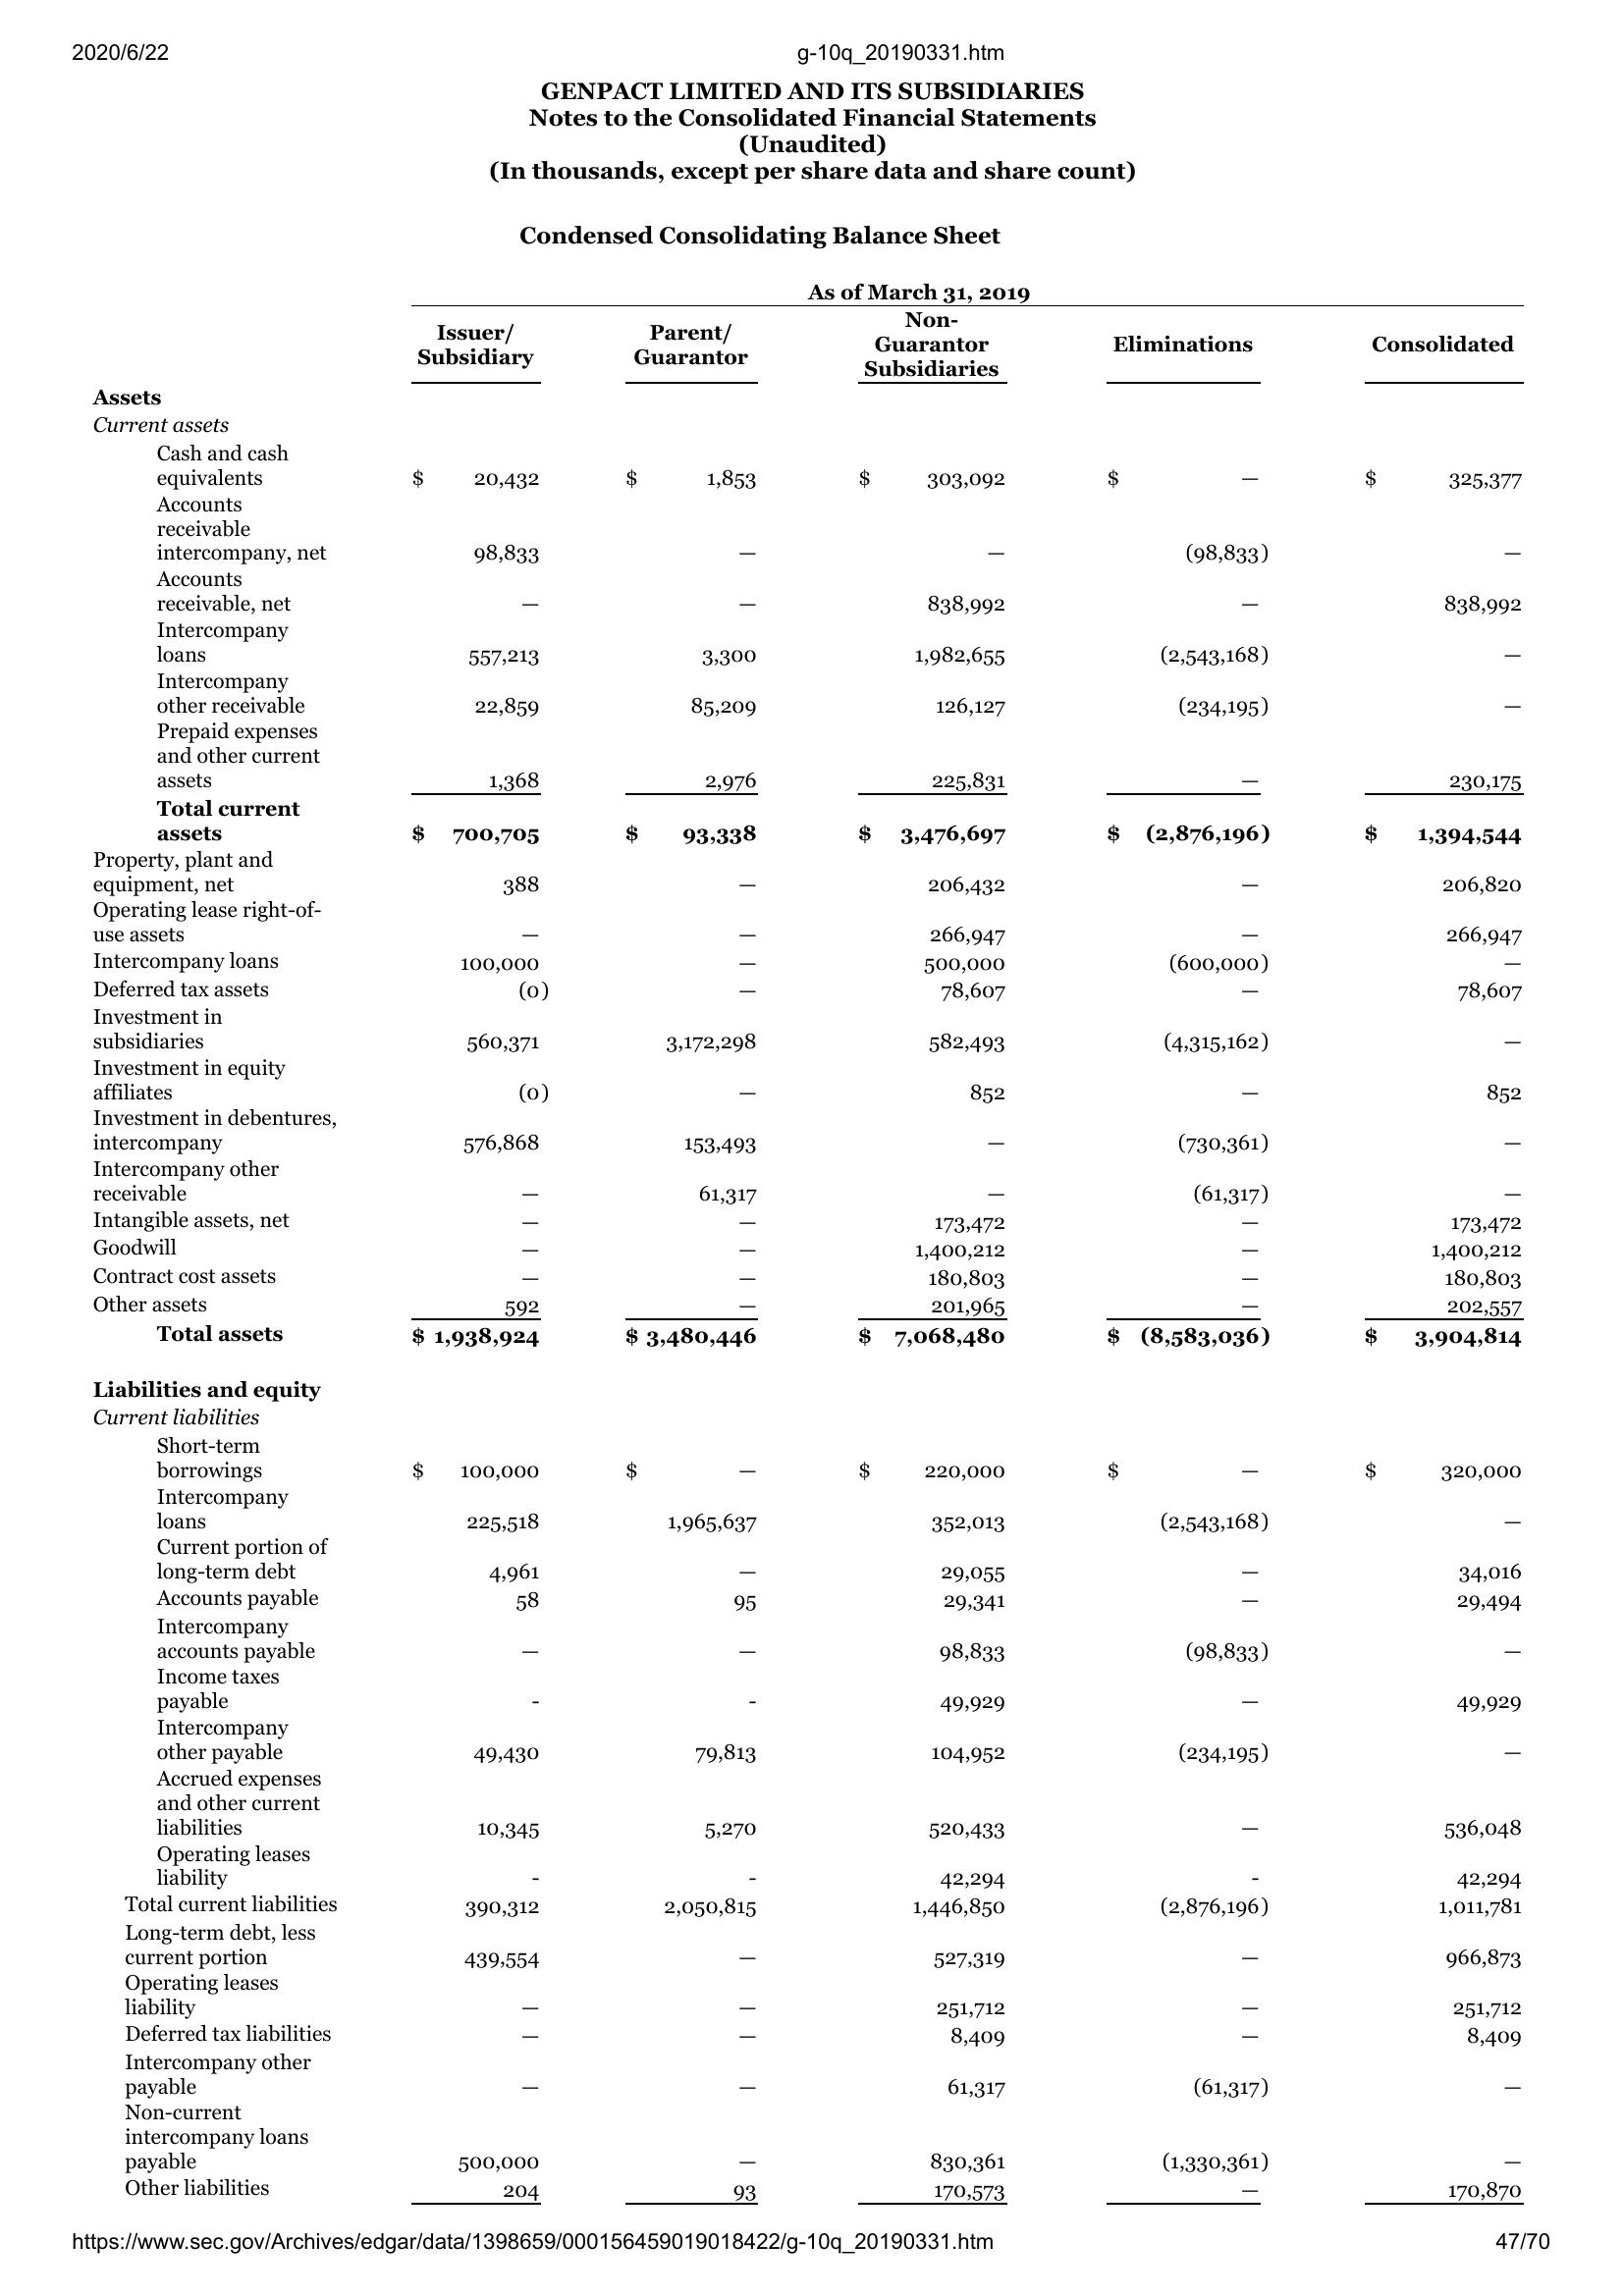table: (72, 274, 1547, 2217)
